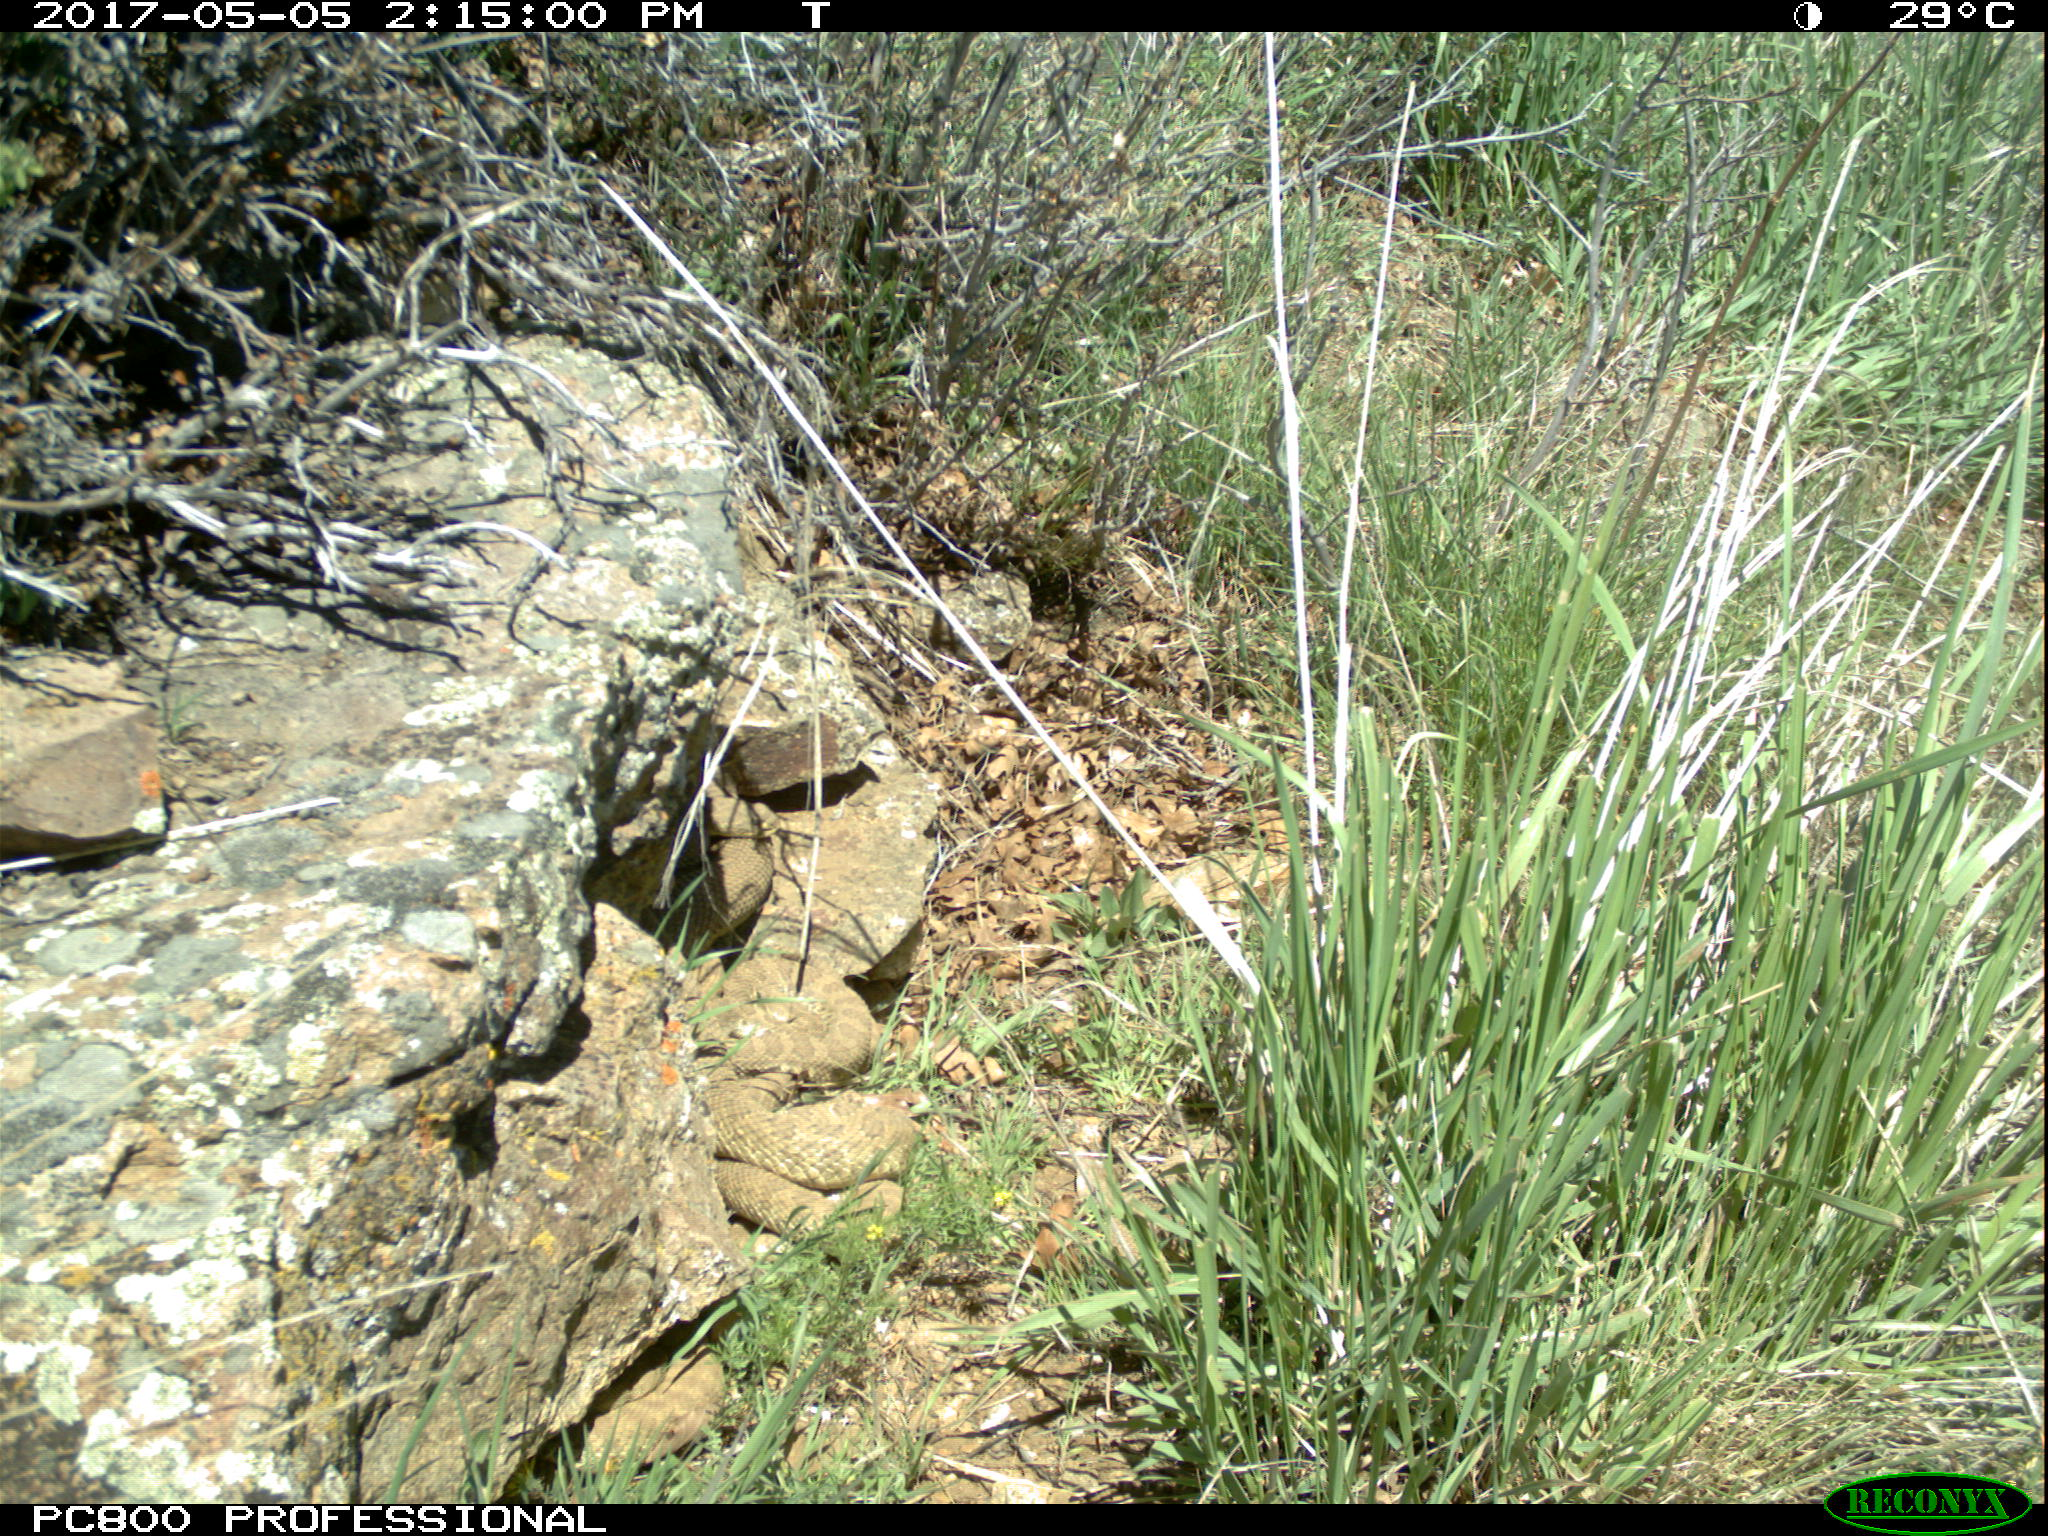snake: (698, 968, 930, 1225), (555, 1338, 743, 1480), (672, 784, 787, 963)
